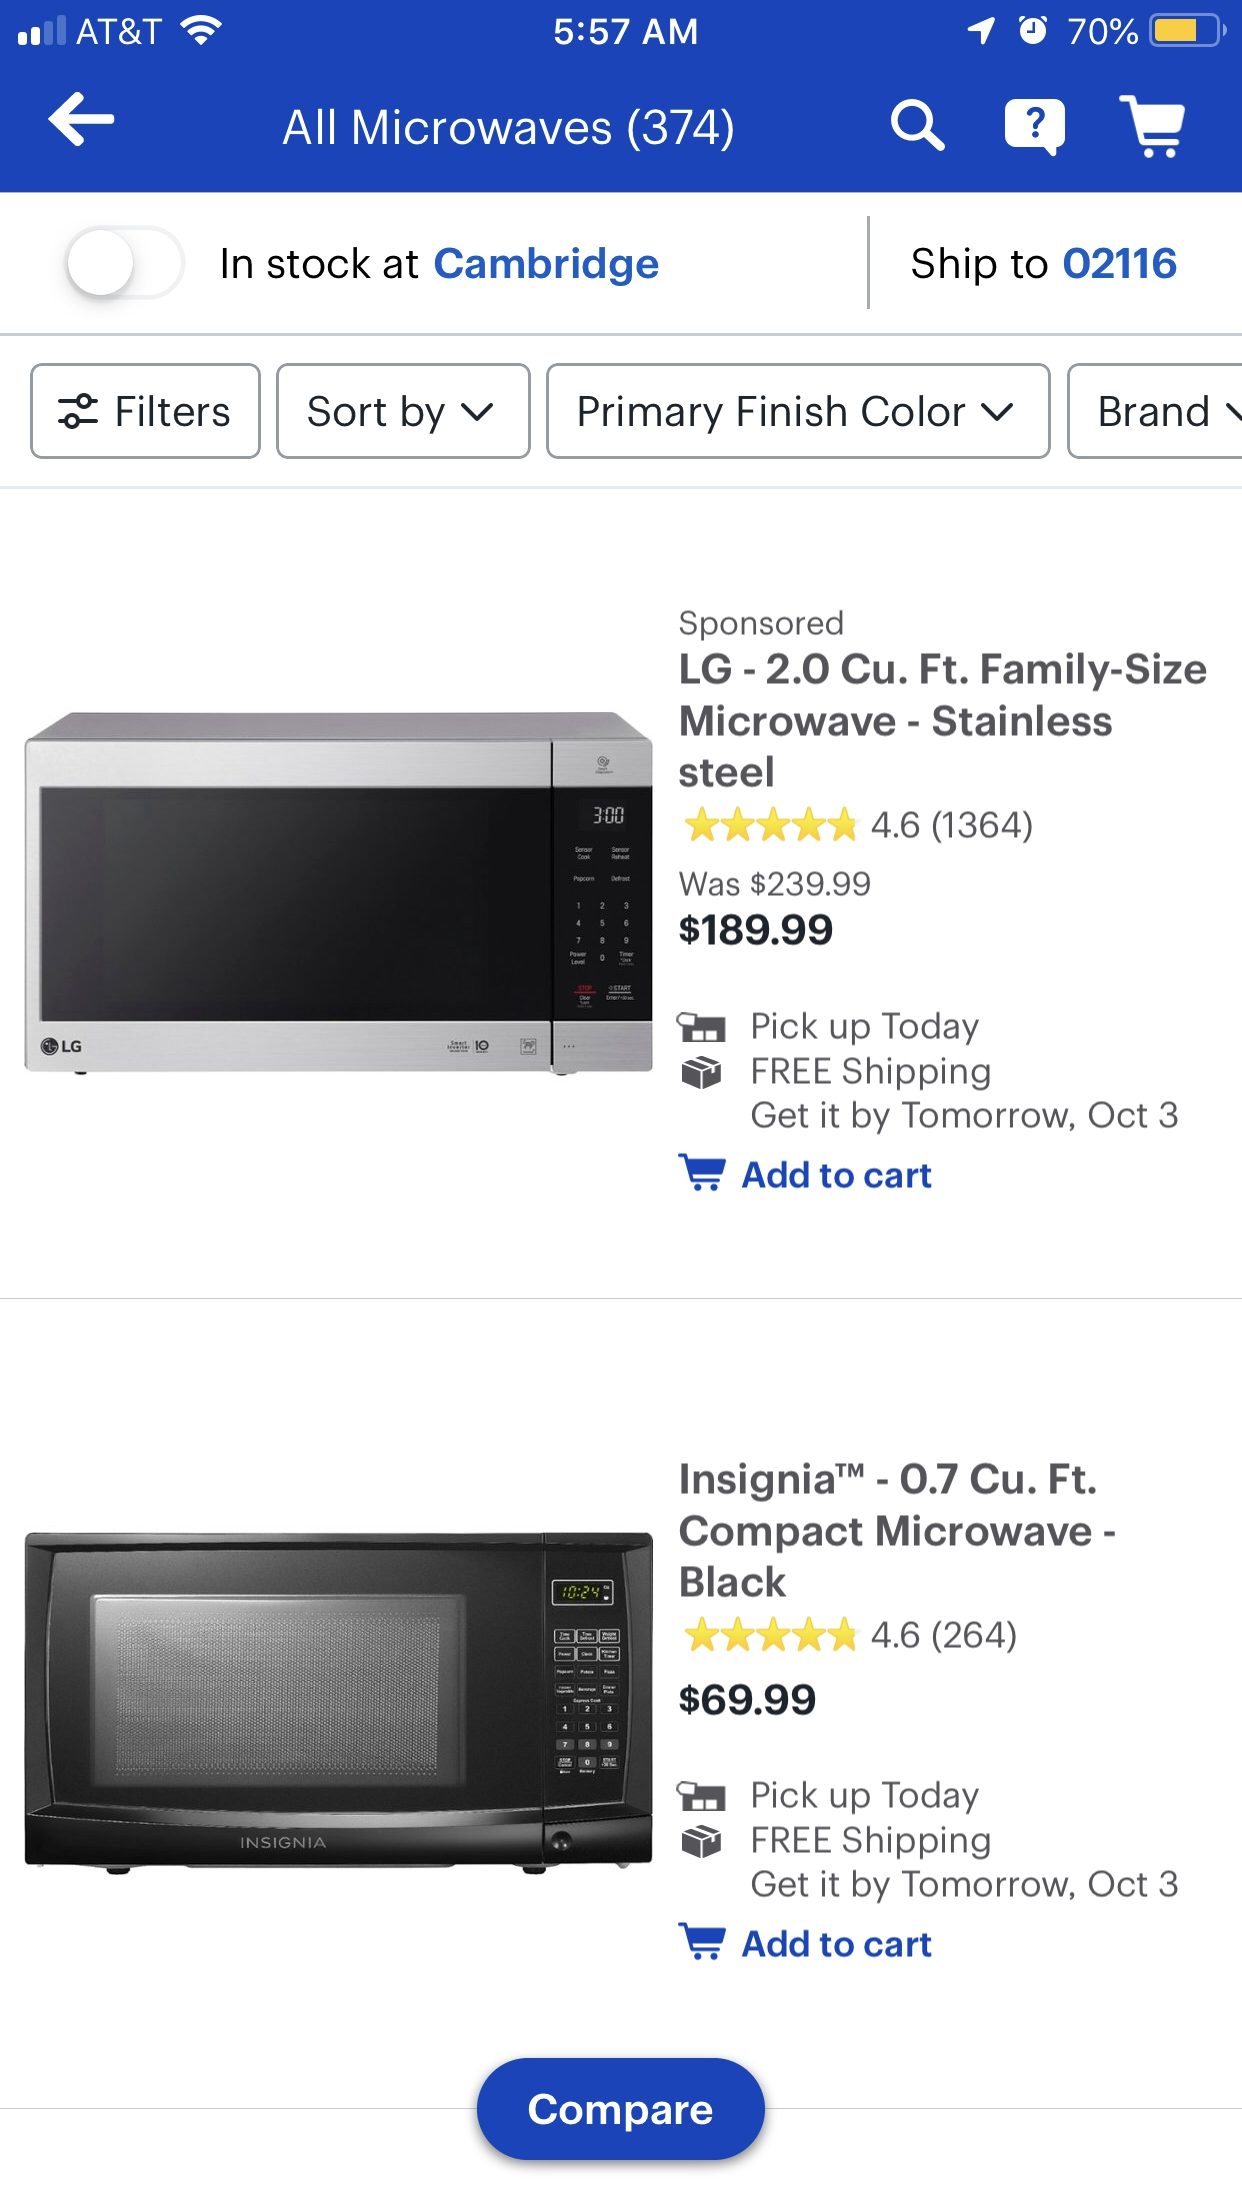Icon: (684, 805, 861, 843), (685, 1615, 863, 1651), (1118, 96, 1186, 161), (47, 93, 115, 149), (1004, 99, 1066, 158), (890, 99, 946, 153), (678, 1921, 726, 1961), (678, 1153, 726, 1192), (980, 403, 1015, 423), (463, 403, 494, 423)
Image: (24, 713, 654, 1078), (24, 1532, 654, 1876), (676, 1780, 726, 1812), (676, 1011, 726, 1043), (682, 1824, 722, 1859), (682, 1055, 722, 1090)
Switch: (64, 224, 187, 302)
Text: (678, 652, 1207, 789), (679, 1460, 1116, 1598), (751, 1779, 1178, 1905), (751, 1011, 1178, 1136), (282, 108, 734, 153), (223, 247, 660, 288), (911, 247, 1177, 288), (870, 810, 1033, 845), (679, 610, 845, 643), (742, 1160, 933, 1189), (742, 1929, 933, 1958), (679, 870, 870, 898), (870, 1620, 1018, 1654), (679, 913, 833, 946), (679, 1683, 816, 1717)
TextButton: (546, 364, 1052, 461), (478, 2058, 766, 2161), (276, 362, 532, 459), (30, 362, 262, 459), (1068, 364, 1242, 461)
UpperTaskBar: (2, 2, 1242, 49)
